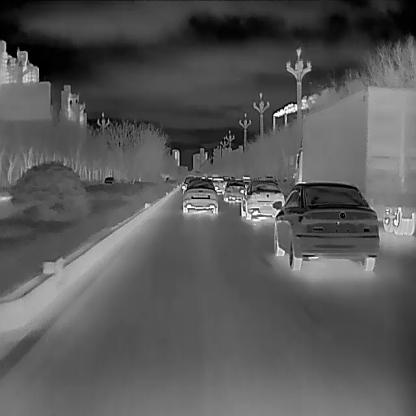car: (296, 85, 415, 235), (273, 182, 379, 271), (240, 179, 284, 220), (181, 178, 218, 216), (222, 180, 246, 202)
